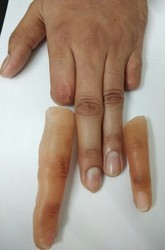finger: (32, 110, 76, 248), (73, 58, 109, 195), (126, 115, 155, 208), (101, 61, 124, 178)
